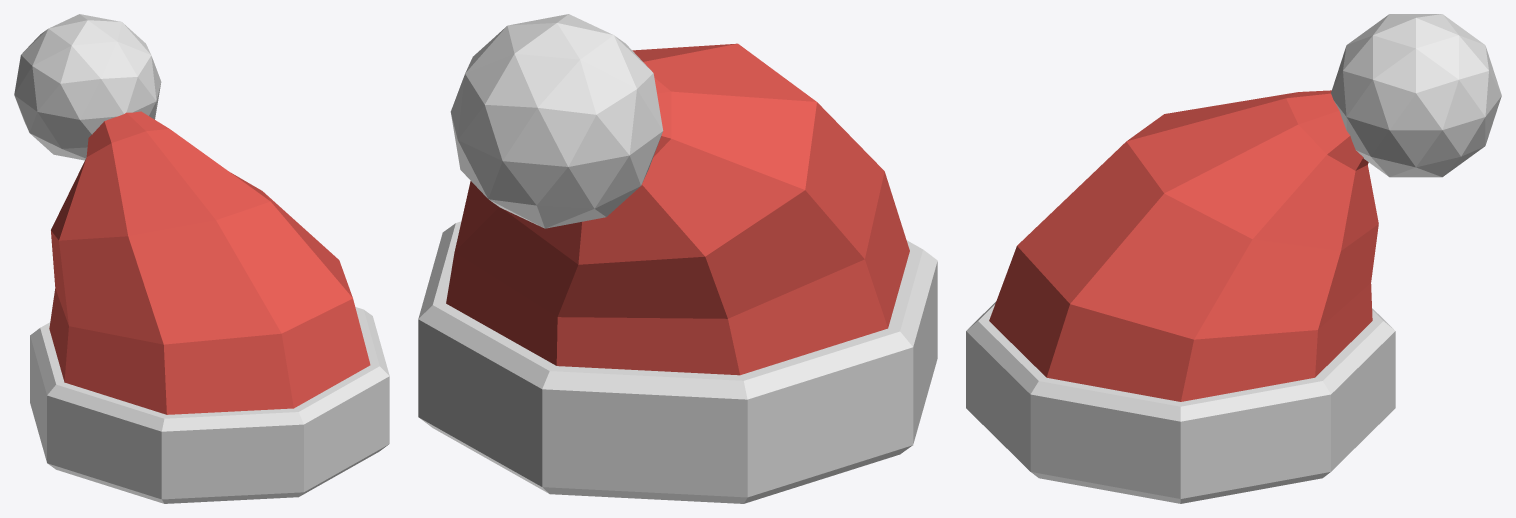
Rendered from funny hat.fbx.
3 renders of one model, left to right at view 1: azimuth 30°, elevation 25°; view 2: azimuth 150°, elevation 25°; view 3: azimuth 270°, elevation 25°, orthographic. The views are drawn at different scales.
Visible parts, largest first — view 1: Plane; view 2: Plane; view 3: Plane.
Part boxes in pixels (<box>): Plane: <box>14,14,389,503</box>; Plane: <box>418,14,937,503</box>; Plane: <box>966,14,1501,503</box>.
Size of the model in its own units: 200 by 200 by 250.
